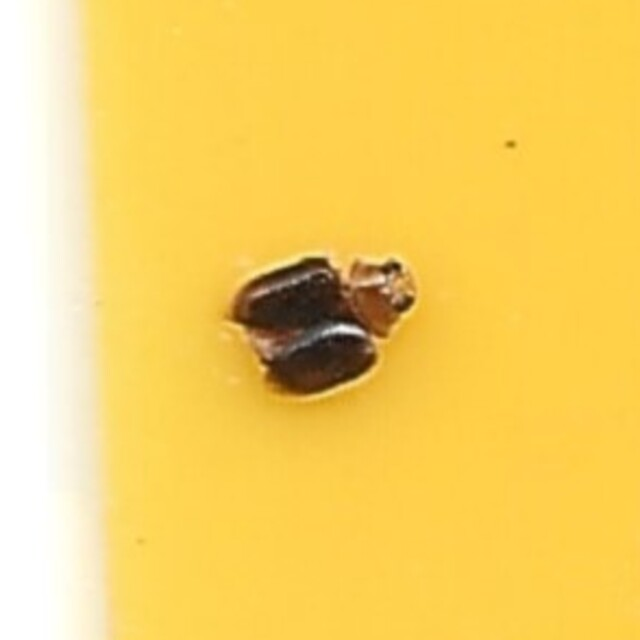Coleoptera: (218, 239, 422, 401)
